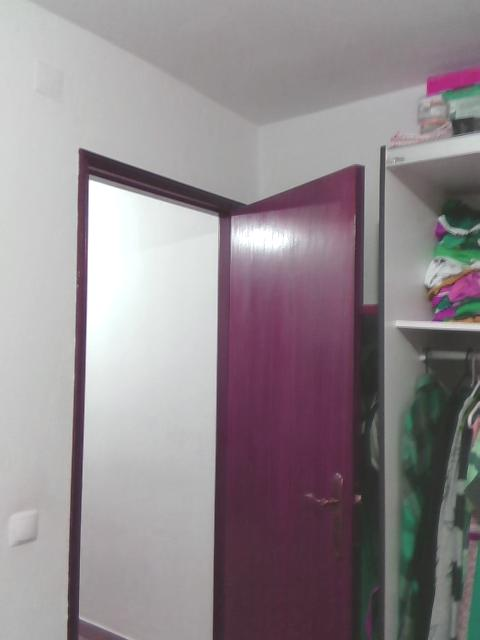open_door: (65, 143, 258, 639)
